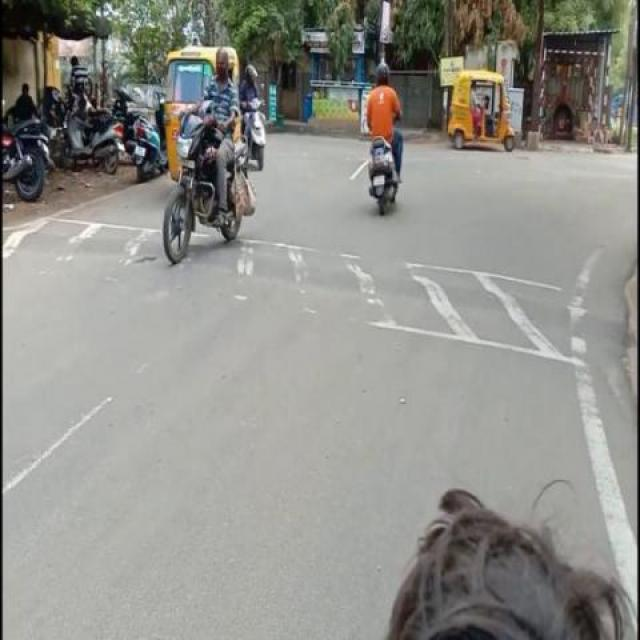Speed Bump: (190, 242, 626, 348), (2, 228, 164, 263)
